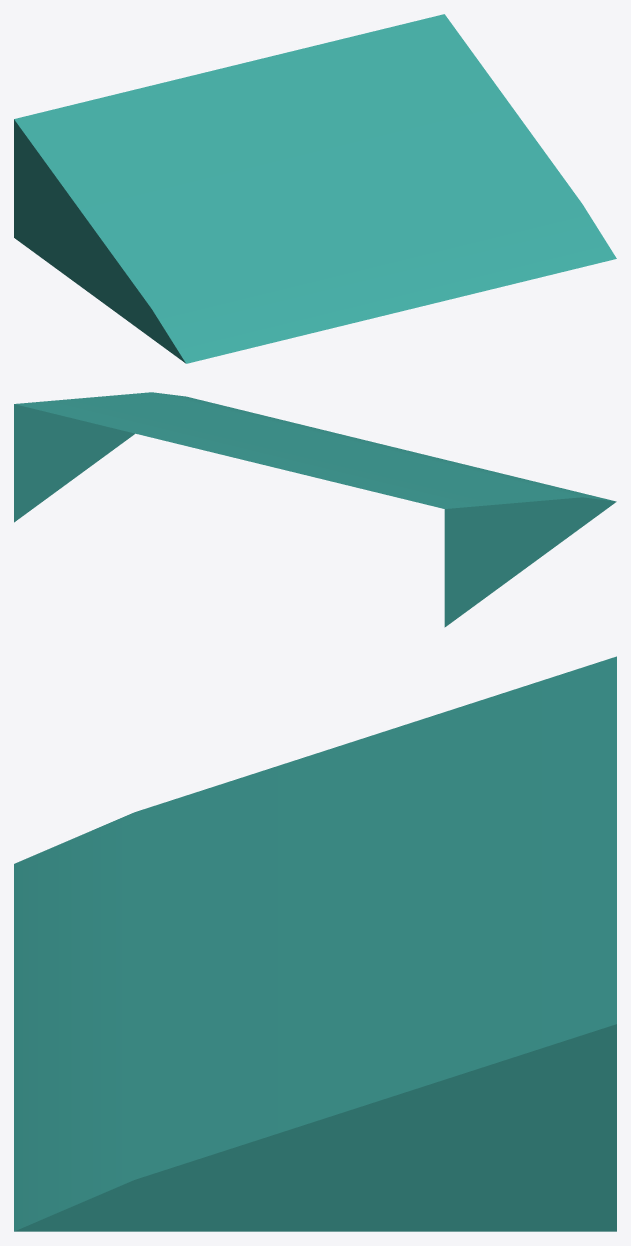
File: Ramp_1.fbx
The picture shows the model from 3 angles, top to bottom: view 1: azimuth 30°, elevation 25°; view 2: azimuth 150°, elevation 25°; view 3: azimuth 270°, elevation 25°; orthographic projection. The views are drawn at different scales.
Visible parts, largest first — view 1: Ramp_1; view 2: Ramp_1; view 3: Ramp_1.
Part boxes in pixels (x1,y1,x2,y2): Ramp_1: (14,14,616,363); Ramp_1: (14,392,616,627); Ramp_1: (14,656,616,1231).
Bounding box in the file's own units: 214 × 56.38 × 148.
